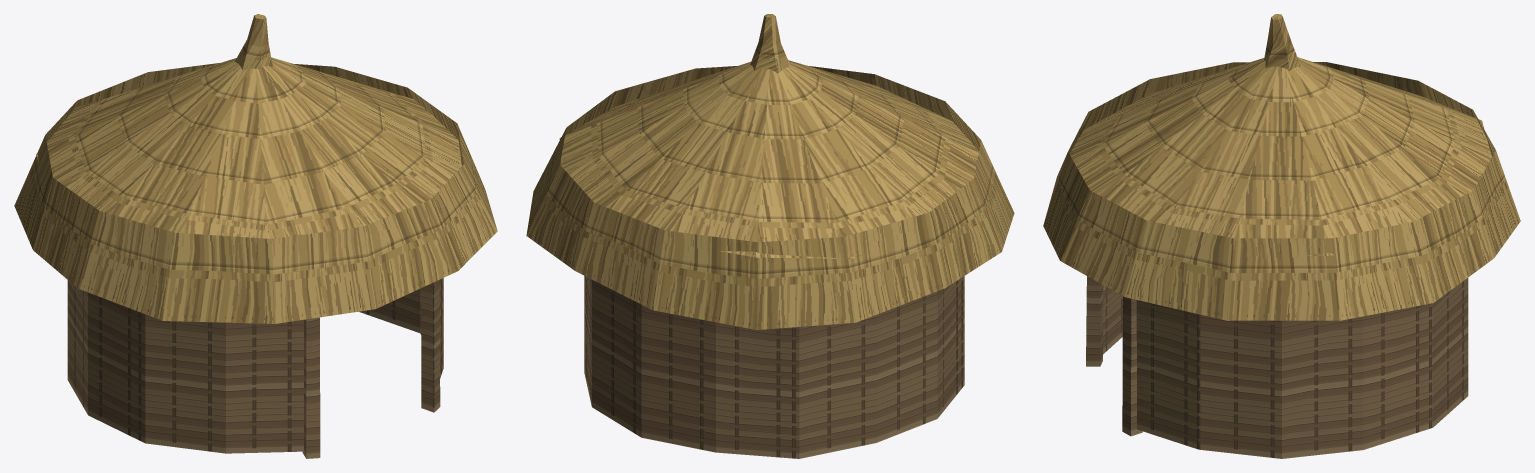
File: camp_hut_b.fbx
The picture shows the model from 3 angles, left to right: view 1: azimuth 30°, elevation 25°; view 2: azimuth 150°, elevation 25°; view 3: azimuth 270°, elevation 25°; orthographic projection.
Parts seen in each view (by area): view 1: camp_hut_b; view 2: camp_hut_b; view 3: camp_hut_b.
Boxes of the visible parts, x1=… form: camp_hut_b: x1=14, y1=14, x2=497, y2=458; camp_hut_b: x1=526, y1=14, x2=1014, y2=458; camp_hut_b: x1=1043, y1=14, x2=1520, y2=458.
Size of the model in its own units: 376 by 318 by 375.
